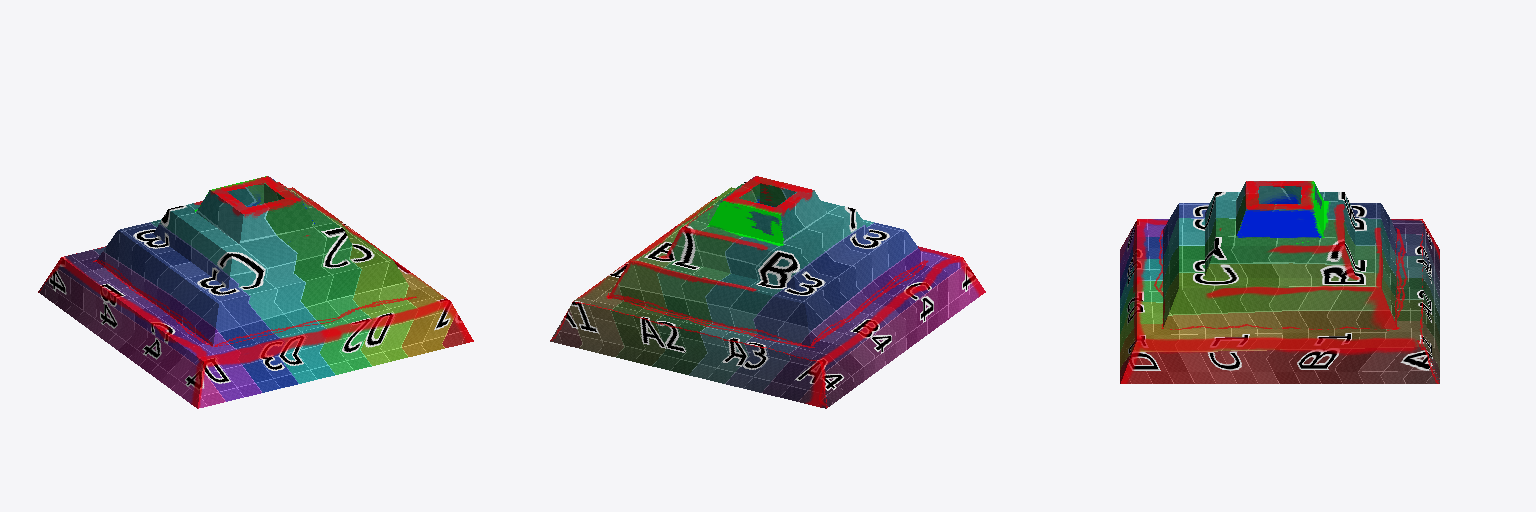
3 views of the same model, side by side, from view 1: azimuth 30°, elevation 25°; view 2: azimuth 150°, elevation 25°; view 3: azimuth 270°, elevation 25° (orthographic).
Parts seen in each view (by area): view 1: Cube; view 2: Cube; view 3: Cube.
Boxes of the visible parts, x1,y1,x2,y2 form: Cube: [38, 176, 473, 408]; Cube: [550, 176, 985, 408]; Cube: [1120, 181, 1439, 383].
Bounding box in the file's own units: 2 × 0.8403 × 2.
1 materials, 1 textured.